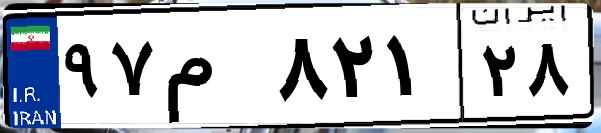1: (385, 28, 445, 110)
2: (330, 28, 385, 110), (475, 38, 525, 113)
7: (110, 28, 158, 98)
8: (270, 28, 330, 110), (525, 38, 570, 115)
9: (57, 26, 110, 100)
م: (158, 20, 270, 120)
